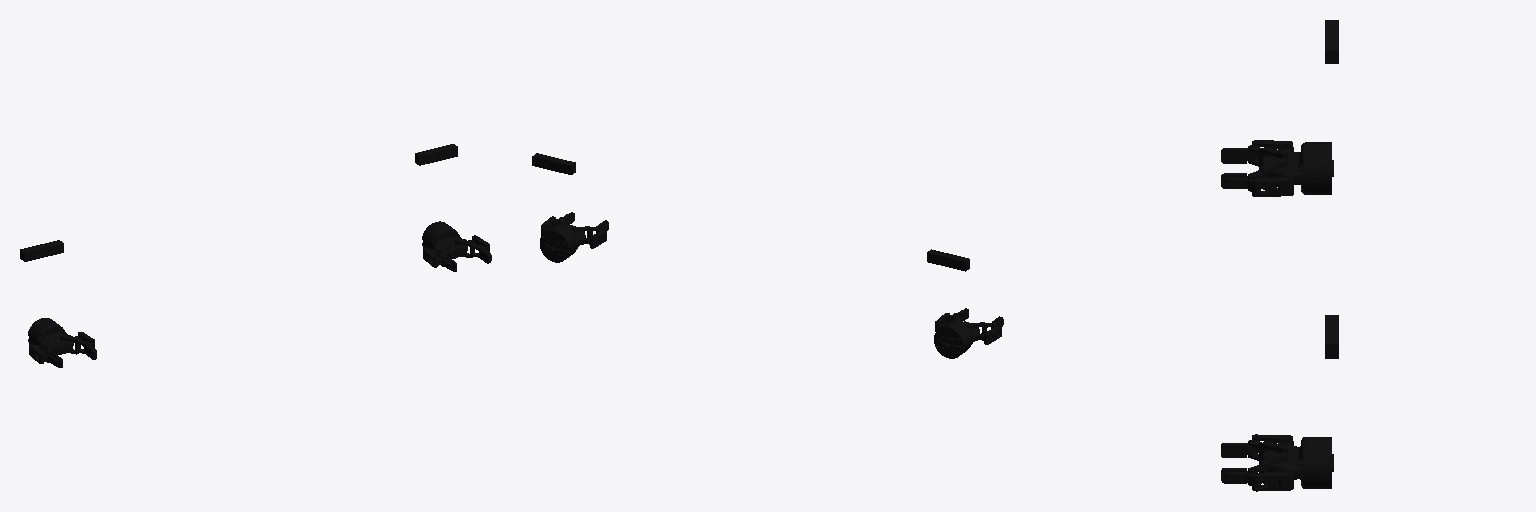
robot.urdf — ur5_robot:
<?xml version="1.0" ?>
<robot name="ur5_robot">

  <link name="base_link"/>

  <!-- left arm -->
  <!-- links: main serial chain -->
  <link name="leftarm_base_link_inertia">
    <visual>
      <origin rpy="0 0 3.141592653589793" xyz="0 0 0"/>
      <geometry>
        <mesh filename="meshes/ur5/visual/base.dae"/>
      </geometry>
      <material name="LightGrey">
        <color rgba="0.7 0.7 0.7 1.0"/>
      </material>
    </visual>
    <collision>
      <origin rpy="0 0 3.141592653589793" xyz="0 0 0"/>
      <geometry>
        <mesh filename="meshes/ur5/collision/base.stl"/>
      </geometry>
    </collision>
    <inertial>
      <mass value="4.0"/>
      <origin rpy="0 0 0" xyz="0 0 0"/>
      <inertia ixx="0.00443333156" ixy="0.0" ixz="0.0" iyy="0.00443333156" iyz="0.0" izz="0.0072"/>
    </inertial>
  </link>
  <link name="leftarm_shoulder_link">
    <visual>
      <origin rpy="0 0 3.141592653589793" xyz="0 0 0"/>
      <geometry>
        <mesh filename="meshes/ur5/visual/shoulder.dae"/>
      </geometry>
      <material name="LightGrey">
        <color rgba="0.7 0.7 0.7 1.0"/>
      </material>
    </visual>
    <collision>
      <origin rpy="0 0 3.141592653589793" xyz="0 0 0"/>
      <geometry>
        <mesh filename="meshes/ur5/collision/shoulder.stl"/>
      </geometry>
    </collision>
    <inertial>
      <mass value="3.7"/>
      <origin rpy="0 0 0" xyz="0 0 0"/>
      <inertia ixx="0.014972352344389999" ixy="0.0" ixz="0.0" iyy="0.014972352344389999" iyz="0.0" izz="0.01040625"/>
    </inertial>
  </link>
  <link name="leftarm_upper_arm_link">
    <visual>
      <origin rpy="1.5707963267948966 0 -1.5707963267948966" xyz="0 0 0.13585"/>
      <geometry>
        <mesh filename="meshes/ur5/visual/upperarm.dae"/>
      </geometry>
      <material name="LightGrey">
        <color rgba="0.7 0.7 0.7 1.0"/>
      </material>
    </visual>
    <collision>
      <origin rpy="1.5707963267948966 0 -1.5707963267948966" xyz="0 0 0.13585"/>
      <geometry>
        <mesh filename="meshes/ur5/collision/upperarm.stl"/>
      </geometry>
    </collision>
    <inertial>
      <mass value="8.393"/>
      <origin rpy="0 1.5707963267948966 0" xyz="-0.2125 0.0 0.136"/>
      <inertia ixx="0.1338857818623325" ixy="0.0" ixz="0.0" iyy="0.1338857818623325" iyz="0.0" izz="0.0151074"/>
    </inertial>
  </link>
  <link name="leftarm_forearm_link">
    <visual>
      <origin rpy="1.5707963267948966 0 -1.5707963267948966" xyz="0 0 0.0165"/>
      <geometry>
        <mesh filename="meshes/ur5/visual/forearm.dae"/>
      </geometry>
      <material name="LightGrey">
        <color rgba="0.7 0.7 0.7 1.0"/>
      </material>
    </visual>
    <collision>
      <origin rpy="1.5707963267948966 0 -1.5707963267948966" xyz="0 0 0.0165"/>
      <geometry>
        <mesh filename="meshes/ur5/collision/forearm.stl"/>
      </geometry>
    </collision>
    <inertial>
      <mass value="2.275"/>
      <origin rpy="0 1.5707963267948966 0" xyz="-0.196125 0.0 0.0165"/>
      <inertia ixx="0.03121679102890359" ixy="0.0" ixz="0.0" iyy="0.03121679102890359" iyz="0.0" izz="0.004095"/>
    </inertial>
  </link>
  <link name="leftarm_wrist_1_link">
    <visual>
      <!-- TODO: Move this to a parameter -->
      <origin rpy="1.5707963267948966 0 0" xyz="0 0 -0.093"/>
      <geometry>
        <mesh filename="meshes/ur5/visual/wrist1.dae"/>
      </geometry>
      <material name="LightGrey">
        <color rgba="0.7 0.7 0.7 1.0"/>
      </material>
    </visual>
    <collision>
      <origin rpy="1.5707963267948966 0 0" xyz="0 0 -0.093"/>
      <geometry>
        <mesh filename="meshes/ur5/collision/wrist1.stl"/>
      </geometry>
    </collision>
    <inertial>
      <mass value="1.219"/>
      <origin rpy="0 0 0" xyz="0 0 0"/>
      <inertia ixx="0.0020138887777775" ixy="0.0" ixz="0.0" iyy="0.0020138887777775" iyz="0.0" izz="0.0021942"/>
    </inertial>
  </link>
  <link name="leftarm_wrist_2_link">
    <visual>
      <origin rpy="0 0 0" xyz="0 0 -0.095"/>
      <geometry>
        <mesh filename="meshes/ur5/visual/wrist2.dae"/>
      </geometry>
      <material name="LightGrey">
        <color rgba="0.7 0.7 0.7 1.0"/>
      </material>
    </visual>
    <collision>
      <origin rpy="0 0 0" xyz="0 0 -0.095"/>
      <geometry>
        <mesh filename="meshes/ur5/collision/wrist2.stl"/>
      </geometry>
    </collision>
    <inertial>
      <mass value="1.219"/>
      <origin rpy="0 0 0" xyz="0 0 0"/>
      <inertia ixx="0.0018310388509175" ixy="0.0" ixz="0.0" iyy="0.0018310388509175" iyz="0.0" izz="0.0021942"/>
    </inertial>
  </link>
  <link name="leftarm_wrist_3_link">
    <visual>
      <origin rpy="1.5707963267948966 0 0" xyz="0 0 -0.0818"/>
      <geometry>
        <mesh filename="meshes/ur5/visual/wrist3.dae"/>
      </geometry>
      <material name="LightGrey">
        <color rgba="0.7 0.7 0.7 1.0"/>
      </material>
    </visual>
    <collision>
      <origin rpy="1.5707963267948966 0 0" xyz="0 0 -0.0818"/>
      <geometry>
        <mesh filename="meshes/ur5/collision/wrist3.stl"/>
      </geometry>
    </collision>
    <inertial>
      <mass value="0.1879"/>
      <origin rpy="0 0 0" xyz="0.0 0.0 -0.01525"/>
      <inertia ixx="8.062472608343e-05" ixy="0.0" ixz="0.0" iyy="8.062472608343e-05" iyz="0.0" izz="0.0001321171875"/>
    </inertial>
  </link>
  <!-- joints: main serial chain -->
  <joint name="leftarm_base_link_base_link_inertia" type="fixed">
    <parent link="base_link"/>
    <child link="leftarm_base_link_inertia"/>
    <origin rpy="0 0 0" xyz="-0.5 0 0"/>
  </joint>
  <joint name="leftarm_shoulder_pan_joint" type="revolute">
    <parent link="leftarm_base_link_inertia"/>
    <child link="leftarm_shoulder_link"/>
    <origin rpy="0 0 0" xyz="0 0 0.089159"/>
    <axis xyz="0 0 1"/>
    <limit effort="150.0" lower="-6.283185307179586" upper="6.283185307179586" velocity="3.141592653589793"/>
    <dynamics damping="0" friction="0"/>
  </joint>
  <joint name="leftarm_shoulder_lift_joint" type="revolute">
    <parent link="leftarm_shoulder_link"/>
    <child link="leftarm_upper_arm_link"/>
    <origin rpy="1.570796327 0 0" xyz="0 0 0"/>
    <axis xyz="0 0 1"/>
    <limit effort="150.0" lower="-6.283185307179586" upper="6.283185307179586" velocity="3.141592653589793"/>
    <dynamics damping="0" friction="0"/>
  </joint>
  <joint name="leftarm_elbow_joint" type="revolute">
    <parent link="leftarm_upper_arm_link"/>
    <child link="leftarm_forearm_link"/>
    <origin rpy="0 0 0" xyz="-0.425 0 0"/>
    <axis xyz="0 0 1"/>
    <limit effort="150.0" lower="-3.141592653589793" upper="3.141592653589793" velocity="3.141592653589793"/>
    <dynamics damping="0" friction="0"/>
  </joint>
  <joint name="leftarm_wrist_1_joint" type="revolute">
    <parent link="leftarm_forearm_link"/>
    <child link="leftarm_wrist_1_link"/>
    <origin rpy="0 0 0" xyz="-0.39225 0 0.10915"/>
    <axis xyz="0 0 1"/>
    <limit effort="28.0" lower="-6.283185307179586" upper="6.283185307179586" velocity="3.141592653589793"/>
    <dynamics damping="0" friction="0"/>
  </joint>
  <joint name="leftarm_wrist_2_joint" type="revolute">
    <parent link="leftarm_wrist_1_link"/>
    <child link="leftarm_wrist_2_link"/>
    <origin rpy="1.570796327 0 0" xyz="0 -0.09465 -1.941303950897609e-11"/>
    <axis xyz="0 0 1"/>
    <limit effort="28.0" lower="-6.283185307179586" upper="6.283185307179586" velocity="3.141592653589793"/>
    <dynamics damping="0" friction="0"/>
  </joint>
  <joint name="leftarm_wrist_3_joint" type="revolute">
    <parent link="leftarm_wrist_2_link"/>
    <child link="leftarm_wrist_3_link"/>
    <origin rpy="1.570796326589793 3.141592653589793 3.141592653589793" xyz="0 0.0823 -1.688001216681175e-11"/>
    <axis xyz="0 0 1"/>
    <limit effort="28.0" lower="-6.283185307179586" upper="6.283185307179586" velocity="3.141592653589793"/>
    <dynamics damping="0" friction="0"/>
  </joint>
  <!-- ROS-Industrial 'flange' frame: attachment point for EEF models -->
  <link name="leftarm_flange"/>
  <joint name="leftarm_wrist_3_flange" type="fixed">
    <parent link="leftarm_wrist_3_link"/>
    <child link="leftarm_flange"/>
    <origin rpy="0 -1.5707963267948966 -1.5707963267948966" xyz="0 0 0"/>
  </joint>
  <!-- ROS-Industrial 'tool0' frame: all-zeros tool frame -->
  <link name="leftarm_tool0">
    <visual>
      <origin rpy="0 0 0" xyz="0 0 0"/>
      <geometry>
        <mesh filename="meshes/robotiq_2f.obj"/>
      </geometry>
      <material name="Black">
        <color rgba="0.1 0.1 0.1 1" />
      </material>
    </visual>
    <collision>
      <origin rpy="0 0 0" xyz="0 0 0"/>
      <geometry>
        <mesh filename="meshes/robotiq_2f.obj"/>
      </geometry>
    </collision>
  </link>
  <joint name="leftarm_flange_tool0" type="fixed">
    <!-- default toolframe: X+ left, Y+ up, Z+ front -->
    <origin rpy="1.5707963267948966 0 1.5707963267948966" xyz="0 0 0"/>
    <parent link="leftarm_flange"/>
    <child link="leftarm_tool0"/>
  </joint>
  <link name="leftarm_camera_link">
    <visual>
      <origin rpy="0 0 0" xyz="0 0 0"/>
      <geometry>
        <box size="0.02005 0.099 0.023"/>
      </geometry>
      <material name="Black">
        <color rgba="0.1 0.1 0.1 1" />
      </material>
    </visual>
    <collision>
      <origin rpy="0 0 0" xyz="0 0 0"/>
      <geometry>
        <box size="0.02005 0.099 0.023"/>
      </geometry>
    </collision>
  </link>
  <joint name="leftarm_tool0_camera" type="fixed">
    <origin rpy="1.5707963267948966 -1.5707963267948966 0" xyz="0 0.2 0"/>
    <parent link="leftarm_tool0"/>
    <child link="leftarm_camera_link"/>
  </joint>
  <link name="leftarm_tcp_link"/>
  <joint name="leftarm_tool0_tcp" type="fixed">
    <origin rpy="0 3.141592653589793 0" xyz="0 0 0.15"/>
    <parent link="leftarm_tool0"/>
    <child link="leftarm_tcp_link"/>
  </joint>

  <!-- right arm -->
  <!-- links: main serial chain -->
  <link name="rightarm_base_link_inertia">
    <visual>
      <origin rpy="0 0 3.141592653589793" xyz="0 0 0"/>
      <geometry>
        <mesh filename="meshes/ur5/visual/base.dae"/>
      </geometry>
      <material name="LightGrey">
        <color rgba="0.7 0.7 0.7 1.0"/>
      </material>
    </visual>
    <collision>
      <origin rpy="0 0 3.141592653589793" xyz="0 0 0"/>
      <geometry>
        <mesh filename="meshes/ur5/collision/base.stl"/>
      </geometry>
    </collision>
    <inertial>
      <mass value="4.0"/>
      <origin rpy="0 0 0" xyz="0 0 0"/>
      <inertia ixx="0.00443333156" ixy="0.0" ixz="0.0" iyy="0.00443333156" iyz="0.0" izz="0.0072"/>
    </inertial>
  </link>
  <link name="rightarm_shoulder_link">
    <visual>
      <origin rpy="0 0 3.141592653589793" xyz="0 0 0"/>
      <geometry>
        <mesh filename="meshes/ur5/visual/shoulder.dae"/>
      </geometry>
      <material name="LightGrey">
        <color rgba="0.7 0.7 0.7 1.0"/>
      </material>
    </visual>
    <collision>
      <origin rpy="0 0 3.141592653589793" xyz="0 0 0"/>
      <geometry>
        <mesh filename="meshes/ur5/collision/shoulder.stl"/>
      </geometry>
    </collision>
    <inertial>
      <mass value="3.7"/>
      <origin rpy="0 0 0" xyz="0 0 0"/>
      <inertia ixx="0.014972352344389999" ixy="0.0" ixz="0.0" iyy="0.014972352344389999" iyz="0.0" izz="0.01040625"/>
    </inertial>
  </link>
  <link name="rightarm_upper_arm_link">
    <visual>
      <origin rpy="1.5707963267948966 0 -1.5707963267948966" xyz="0 0 0.13585"/>
      <geometry>
        <mesh filename="meshes/ur5/visual/upperarm.dae"/>
      </geometry>
      <material name="LightGrey">
        <color rgba="0.7 0.7 0.7 1.0"/>
      </material>
    </visual>
    <collision>
      <origin rpy="1.5707963267948966 0 -1.5707963267948966" xyz="0 0 0.13585"/>
      <geometry>
        <mesh filename="meshes/ur5/collision/upperarm.stl"/>
      </geometry>
    </collision>
    <inertial>
      <mass value="8.393"/>
      <origin rpy="0 1.5707963267948966 0" xyz="-0.2125 0.0 0.136"/>
      <inertia ixx="0.1338857818623325" ixy="0.0" ixz="0.0" iyy="0.1338857818623325" iyz="0.0" izz="0.0151074"/>
    </inertial>
  </link>
  <link name="rightarm_forearm_link">
    <visual>
      <origin rpy="1.5707963267948966 0 -1.5707963267948966" xyz="0 0 0.0165"/>
      <geometry>
        <mesh filename="meshes/ur5/visual/forearm.dae"/>
      </geometry>
      <material name="LightGrey">
        <color rgba="0.7 0.7 0.7 1.0"/>
      </material>
    </visual>
    <collision>
      <origin rpy="1.5707963267948966 0 -1.5707963267948966" xyz="0 0 0.0165"/>
      <geometry>
        <mesh filename="meshes/ur5/collision/forearm.stl"/>
      </geometry>
    </collision>
    <inertial>
      <mass value="2.275"/>
      <origin rpy="0 1.5707963267948966 0" xyz="-0.196125 0.0 0.0165"/>
      <inertia ixx="0.03121679102890359" ixy="0.0" ixz="0.0" iyy="0.03121679102890359" iyz="0.0" izz="0.004095"/>
    </inertial>
  </link>
  <link name="rightarm_wrist_1_link">
    <visual>
      <!-- TODO: Move this to a parameter -->
      <origin rpy="1.5707963267948966 0 0" xyz="0 0 -0.093"/>
      <geometry>
        <mesh filename="meshes/ur5/visual/wrist1.dae"/>
      </geometry>
      <material name="LightGrey">
        <color rgba="0.7 0.7 0.7 1.0"/>
      </material>
    </visual>
    <collision>
      <origin rpy="1.5707963267948966 0 0" xyz="0 0 -0.093"/>
      <geometry>
        <mesh filename="meshes/ur5/collision/wrist1.stl"/>
      </geometry>
    </collision>
    <inertial>
      <mass value="1.219"/>
      <origin rpy="0 0 0" xyz="0 0 0"/>
      <inertia ixx="0.0020138887777775" ixy="0.0" ixz="0.0" iyy="0.0020138887777775" iyz="0.0" izz="0.0021942"/>
    </inertial>
  </link>
  <link name="rightarm_wrist_2_link">
    <visual>
      <origin rpy="0 0 0" xyz="0 0 -0.095"/>
      <geometry>
        <mesh filename="meshes/ur5/visual/wrist2.dae"/>
      </geometry>
      <material name="LightGrey">
        <color rgba="0.7 0.7 0.7 1.0"/>
      </material>
    </visual>
    <collision>
      <origin rpy="0 0 0" xyz="0 0 -0.095"/>
      <geometry>
        <mesh filename="meshes/ur5/collision/wrist2.stl"/>
      </geometry>
    </collision>
    <inertial>
      <mass value="1.219"/>
      <origin rpy="0 0 0" xyz="0 0 0"/>
      <inertia ixx="0.0018310388509175" ixy="0.0" ixz="0.0" iyy="0.0018310388509175" iyz="0.0" izz="0.0021942"/>
    </inertial>
  </link>
  <link name="rightarm_wrist_3_link">
    <visual>
      <origin rpy="1.5707963267948966 0 0" xyz="0 0 -0.0818"/>
      <geometry>
        <mesh filename="meshes/ur5/visual/wrist3.dae"/>
      </geometry>
      <material name="LightGrey">
        <color rgba="0.7 0.7 0.7 1.0"/>
      </material>
    </visual>
    <collision>
      <origin rpy="1.5707963267948966 0 0" xyz="0 0 -0.0818"/>
      <geometry>
        <mesh filename="meshes/ur5/collision/wrist3.stl"/>
      </geometry>
    </collision>
    <inertial>
      <mass value="0.1879"/>
      <origin rpy="0 0 0" xyz="0.0 0.0 -0.01525"/>
      <inertia ixx="8.062472608343e-05" ixy="0.0" ixz="0.0" iyy="8.062472608343e-05" iyz="0.0" izz="0.0001321171875"/>
    </inertial>
  </link>
  <!-- joints: main serial chain -->
  <joint name="rightarm_base_link_base_link_inertia" type="fixed">
    <parent link="base_link"/>
    <child link="rightarm_base_link_inertia"/>
    <origin rpy="0 0 0" xyz="+0.5 0 0"/>
  </joint>
  <joint name="rightarm_shoulder_pan_joint" type="revolute">
    <parent link="rightarm_base_link_inertia"/>
    <child link="rightarm_shoulder_link"/>
    <origin rpy="0 0 0" xyz="0 0 0.089159"/>
    <axis xyz="0 0 1"/>
    <limit effort="150.0" lower="-6.283185307179586" upper="6.283185307179586" velocity="3.141592653589793"/>
    <dynamics damping="0" friction="0"/>
  </joint>
  <joint name="rightarm_shoulder_lift_joint" type="revolute">
    <parent link="rightarm_shoulder_link"/>
    <child link="rightarm_upper_arm_link"/>
    <origin rpy="1.570796327 0 0" xyz="0 0 0"/>
    <axis xyz="0 0 1"/>
    <limit effort="150.0" lower="-6.283185307179586" upper="6.283185307179586" velocity="3.141592653589793"/>
    <dynamics damping="0" friction="0"/>
  </joint>
  <joint name="rightarm_elbow_joint" type="revolute">
    <parent link="rightarm_upper_arm_link"/>
    <child link="rightarm_forearm_link"/>
    <origin rpy="0 0 0" xyz="-0.425 0 0"/>
    <axis xyz="0 0 1"/>
    <limit effort="150.0" lower="-3.141592653589793" upper="3.141592653589793" velocity="3.141592653589793"/>
    <dynamics damping="0" friction="0"/>
  </joint>
  <joint name="rightarm_wrist_1_joint" type="revolute">
    <parent link="rightarm_forearm_link"/>
    <child link="rightarm_wrist_1_link"/>
    <origin rpy="0 0 0" xyz="-0.39225 0 0.10915"/>
    <axis xyz="0 0 1"/>
    <limit effort="28.0" lower="-6.283185307179586" upper="6.283185307179586" velocity="3.141592653589793"/>
    <dynamics damping="0" friction="0"/>
  </joint>
  <joint name="rightarm_wrist_2_joint" type="revolute">
    <parent link="rightarm_wrist_1_link"/>
    <child link="rightarm_wrist_2_link"/>
    <origin rpy="1.570796327 0 0" xyz="0 -0.09465 -1.941303950897609e-11"/>
    <axis xyz="0 0 1"/>
    <limit effort="28.0" lower="-6.283185307179586" upper="6.283185307179586" velocity="3.141592653589793"/>
    <dynamics damping="0" friction="0"/>
  </joint>
  <joint name="rightarm_wrist_3_joint" type="revolute">
    <parent link="rightarm_wrist_2_link"/>
    <child link="rightarm_wrist_3_link"/>
    <origin rpy="1.570796326589793 3.141592653589793 3.141592653589793" xyz="0 0.0823 -1.688001216681175e-11"/>
    <axis xyz="0 0 1"/>
    <limit effort="28.0" lower="-6.283185307179586" upper="6.283185307179586" velocity="3.141592653589793"/>
    <dynamics damping="0" friction="0"/>
  </joint>
  <!-- ROS-Industrial 'flange' frame: attachment point for EEF models -->
  <link name="rightarm_flange"/>
  <joint name="rightarm_wrist_3_flange" type="fixed">
    <parent link="rightarm_wrist_3_link"/>
    <child link="rightarm_flange"/>
    <origin rpy="0 -1.5707963267948966 -1.5707963267948966" xyz="0 0 0"/>
  </joint>
  <!-- ROS-Industrial 'tool0' frame: all-zeros tool frame -->
  <link name="rightarm_tool0">
    <visual>
      <origin rpy="0 0 0" xyz="0 0 0"/>
      <geometry>
        <mesh filename="meshes/robotiq_2f.obj"/>
      </geometry>
      <material name="Black">
        <color rgba="0.1 0.1 0.1 1" />
      </material>
    </visual>
    <collision>
      <origin rpy="0 0 0" xyz="0 0 0"/>
      <geometry>
        <mesh filename="meshes/robotiq_2f.obj"/>
      </geometry>
    </collision>
  </link>
  <joint name="rightarm_flange_tool0" type="fixed">
    <!-- default toolframe: X+ left, Y+ up, Z+ front -->
    <origin rpy="1.5707963267948966 0 1.5707963267948966" xyz="0 0 0"/>
    <parent link="rightarm_flange"/>
    <child link="rightarm_tool0"/>
  </joint>
  <link name="rightarm_camera_link">
    <visual>
      <origin rpy="0 0 0" xyz="0 0 0"/>
      <geometry>
        <box size="0.02005 0.099 0.023"/>
      </geometry>
      <material name="Black">
        <color rgba="0.1 0.1 0.1 1" />
      </material>
    </visual>
    <collision>
      <origin rpy="0 0 0" xyz="0 0 0"/>
      <geometry>
        <box size="0.02005 0.099 0.023"/>
      </geometry>
    </collision>
  </link>
  <joint name="rightarm_tool0_camera" type="fixed">
    <origin rpy="1.5707963267948966 -1.5707963267948966 0" xyz="0 0.2 0"/>
    <parent link="rightarm_tool0"/>
    <child link="rightarm_camera_link"/>
  </joint>
  <link name="rightarm_tcp_link"/>
  <joint name="rightarm_tool0_tcp" type="fixed">
    <origin rpy="0 3.141592653589793 0" xyz="0 0 0.15"/>
    <parent link="rightarm_tool0"/>
    <child link="rightarm_tcp_link"/>
  </joint>

</robot>

--- Render facts (derived) ---
3 views of the same robot in one strip: view 1: azimuth 30°, elevation 25°; view 2: azimuth 150°, elevation 25°; view 3: azimuth 270°, elevation 25° (orthographic).
Model ur5_robot with 23 links and 22 joints (12 revolute, 10 fixed), rooted at base_link, posed all joints at 0.
Links seen in each view (by area): view 1: rightarm_tool0, leftarm_tool0, leftarm_camera_link, rightarm_camera_link; view 2: leftarm_tool0, rightarm_tool0, rightarm_camera_link, leftarm_camera_link; view 3: leftarm_tool0, rightarm_tool0, leftarm_camera_link, rightarm_camera_link.
Boxes of the visible links, <box> form: rightarm_tool0: <box>422,221,491,271</box>; leftarm_tool0: <box>28,318,96,367</box>; leftarm_camera_link: <box>20,240,63,261</box>; rightarm_camera_link: <box>415,144,457,165</box>; leftarm_tool0: <box>934,308,1003,358</box>; rightarm_tool0: <box>540,212,608,262</box>; rightarm_camera_link: <box>532,153,575,174</box>; leftarm_camera_link: <box>927,249,969,271</box>; leftarm_tool0: <box>1221,140,1333,196</box>; rightarm_tool0: <box>1221,434,1333,491</box>; leftarm_camera_link: <box>1325,20,1338,63</box>; rightarm_camera_link: <box>1325,315,1338,358</box>.
Bounding box of the posed robot: 1.14 × 0.1692 × 0.249 m (x, y, z).
2 mesh visuals loaded from 8 distinct referenced files (1 OBJ); not drawn: 14 (reference not matched to a file when rendering).